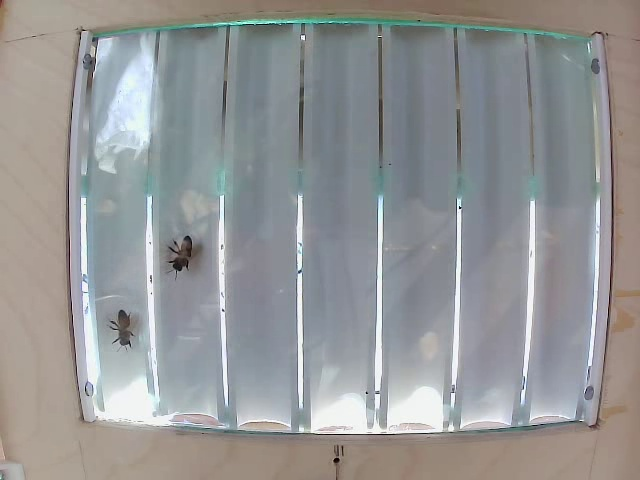bee: (167, 231, 201, 277), (111, 305, 137, 350)
